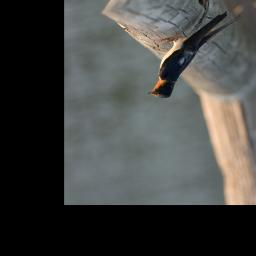Swallow: (131, 7, 256, 106)
